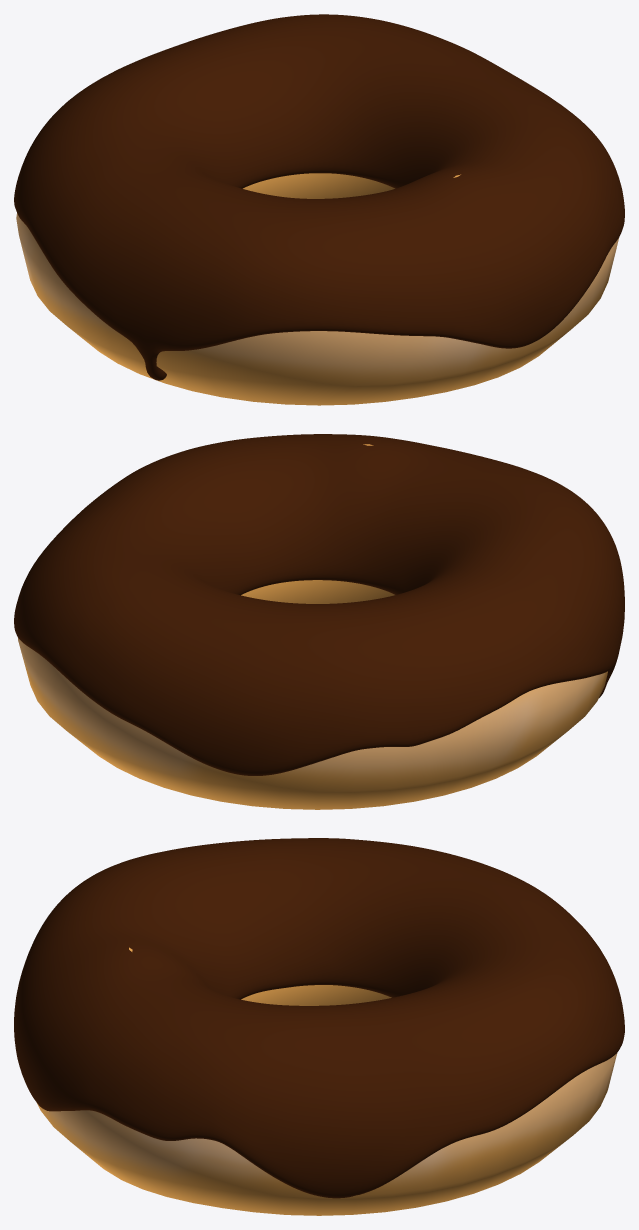
The model's file is chocolate.gltf.
The picture shows the model from 3 angles, top to bottom: view 1: azimuth 30°, elevation 25°; view 2: azimuth 150°, elevation 25°; view 3: azimuth 270°, elevation 25°; orthographic projection.
Visible parts, largest first — view 1: icing, Donut; view 2: icing, Donut; view 3: icing, Donut.
Boxes of the visible parts, x1,y1,x2,y2 form: icing: (14, 14, 624, 380); Donut: (16, 173, 619, 405); icing: (14, 434, 624, 775); Donut: (18, 444, 607, 809); icing: (14, 838, 624, 1198); Donut: (37, 947, 617, 1215).
Bounding box in the file's own units: 0.317 × 0.1153 × 0.3207.
Materials: 2 (1 with a texture image).
